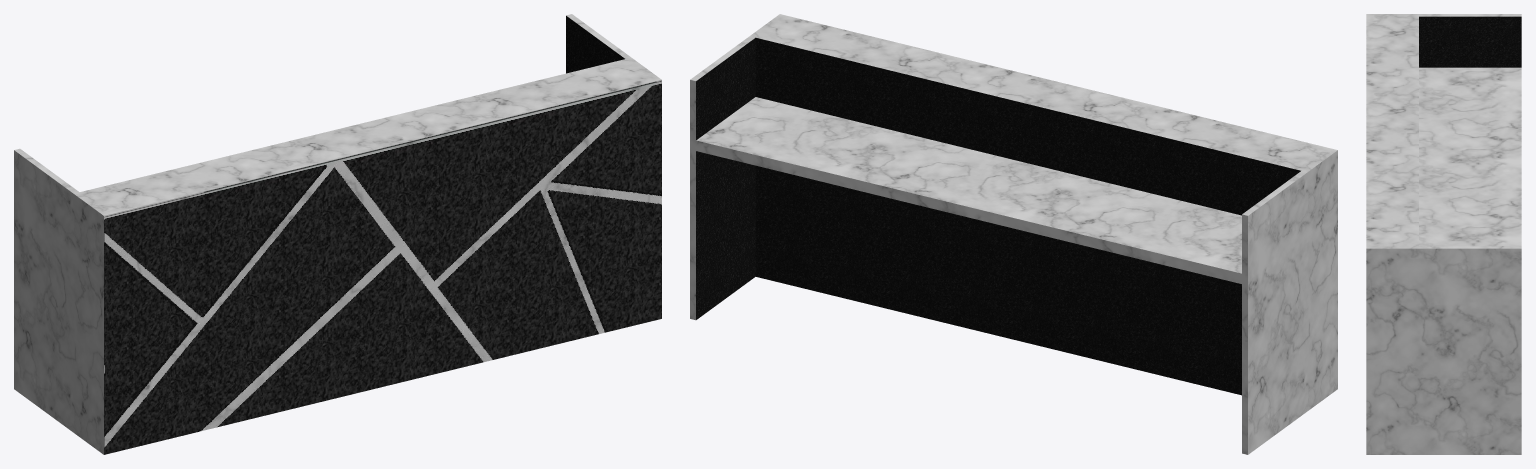
Rendered from BalcaoRecepcaoEntrada.dae.
3 views of the same model, side by side, from view 1: azimuth 30°, elevation 25°; view 2: azimuth 150°, elevation 25°; view 3: azimuth 270°, elevation 25° (orthographic). The views are drawn at different scales.
Visible parts, largest first — view 1: instance_0 (×3); view 2: instance_0 (×3); view 3: instance_0 (×2).
Part boxes in pixels (<box>): instance_0 (×3): <box>14,14,661,454</box>; instance_0 (×3): <box>690,14,1337,454</box>; instance_0 (×2): <box>1366,14,1521,454</box>.
Bounding box in the file's own units: 109 × 30.31 × 44.49.
Materials: 3 (3 with a texture image).
